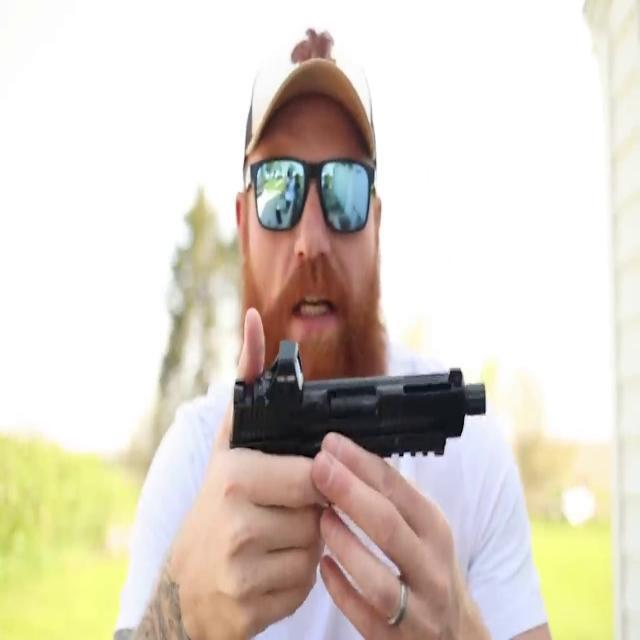Handgun: (221, 345, 497, 640)
